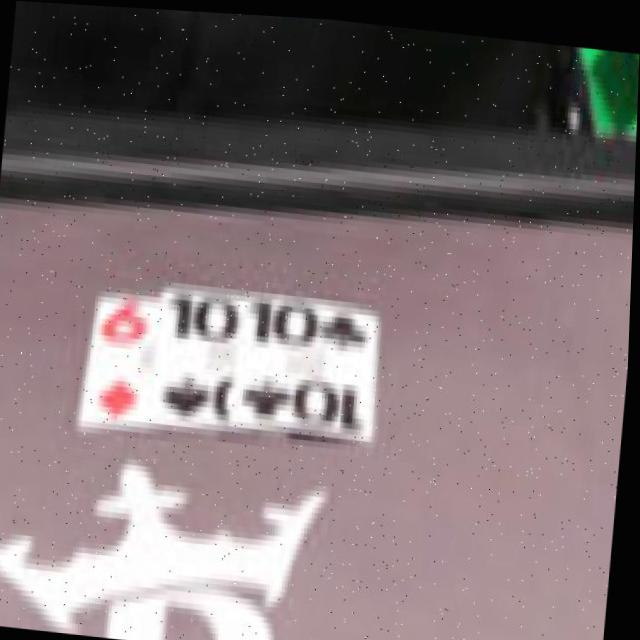Card-10: (239, 291, 383, 434), (157, 289, 248, 426)
Card-6: (83, 292, 163, 428)
